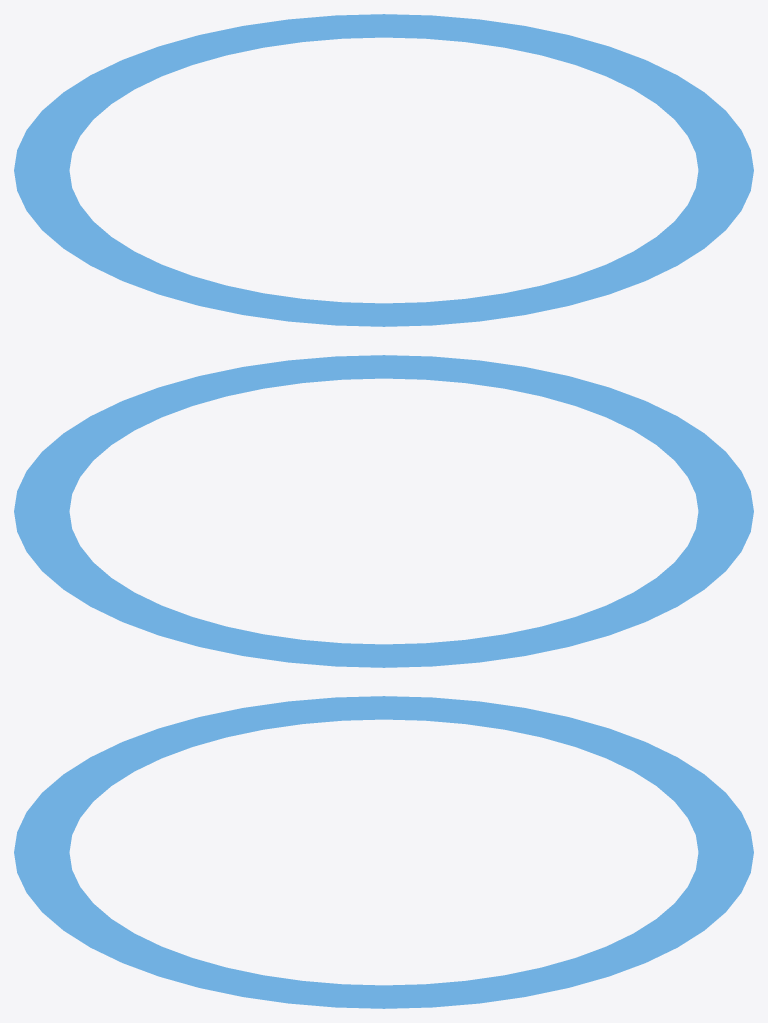
The model's file is lightning_zap.glb.
The picture shows the model from 3 angles, top to bottom: view 1: azimuth 30°, elevation 25°; view 2: azimuth 150°, elevation 25°; view 3: azimuth 270°, elevation 25°; orthographic projection.
Visible parts, largest first — view 1: lightning_zap; view 2: lightning_zap; view 3: lightning_zap.
Boxes of the visible parts, bbox=[...] form: lightning_zap: bbox=[14, 14, 753, 326]; lightning_zap: bbox=[14, 355, 753, 667]; lightning_zap: bbox=[14, 696, 753, 1008].
Size of the model in its own units: 2 by 0 by 2.
1 material, 1 textured.
